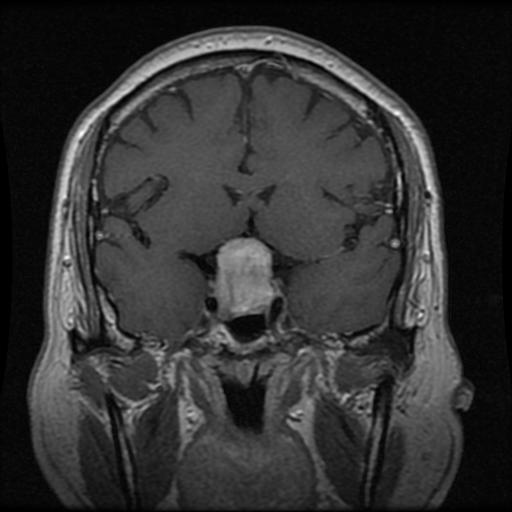Pituirity_tumour: (216, 236, 273, 314)
